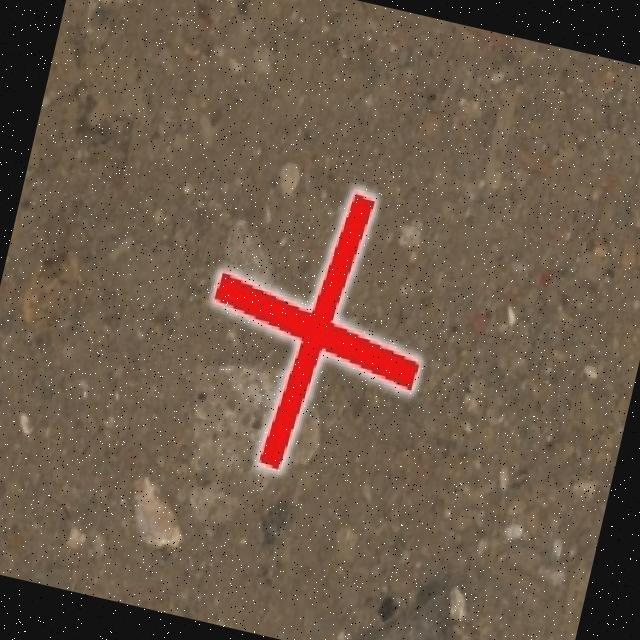x_marker: (180, 164, 452, 493)
